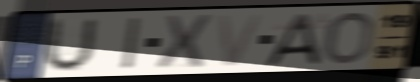A: (261, 11, 322, 67)
I: (121, 15, 144, 72)
O: (321, 10, 377, 66)
U: (39, 16, 100, 74)
V: (215, 12, 268, 69)
X: (154, 13, 214, 72)
